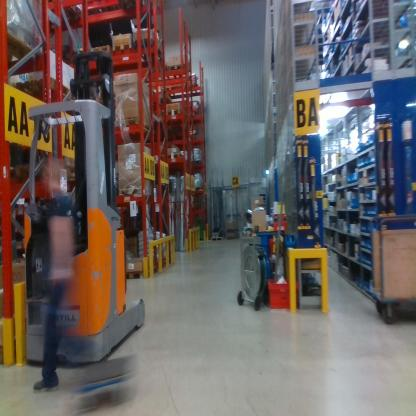forklift: (17, 42, 155, 375)
pallet: (14, 70, 86, 124), (41, 0, 89, 29), (117, 115, 153, 140), (134, 38, 164, 61), (170, 63, 192, 88), (166, 105, 187, 130), (113, 41, 140, 59), (121, 266, 148, 281), (164, 149, 189, 165), (92, 44, 110, 57)
small_load_carrier: (262, 275, 298, 315)
